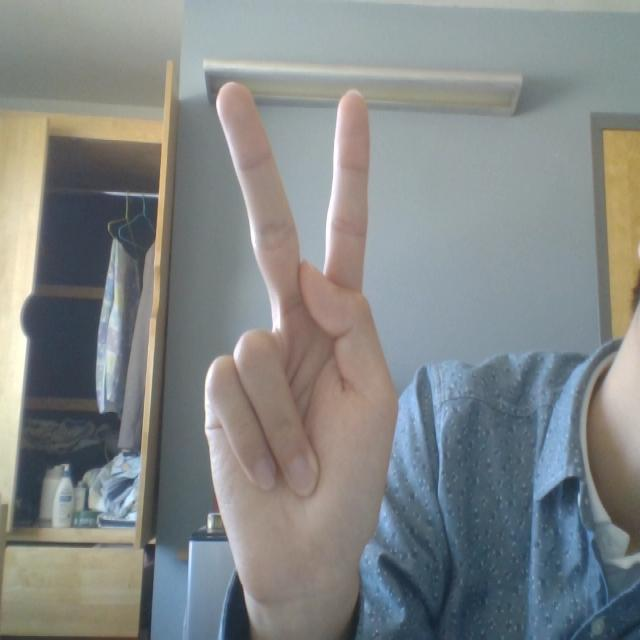K: (180, 45, 474, 640)
